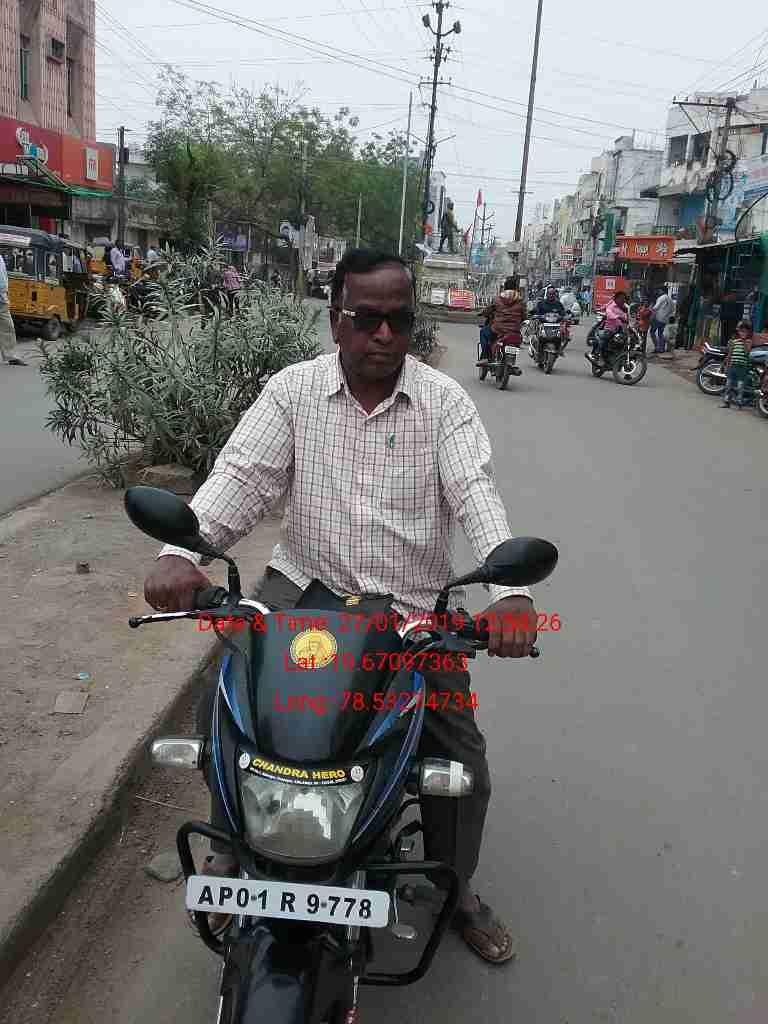plate: (186, 872, 396, 939)
